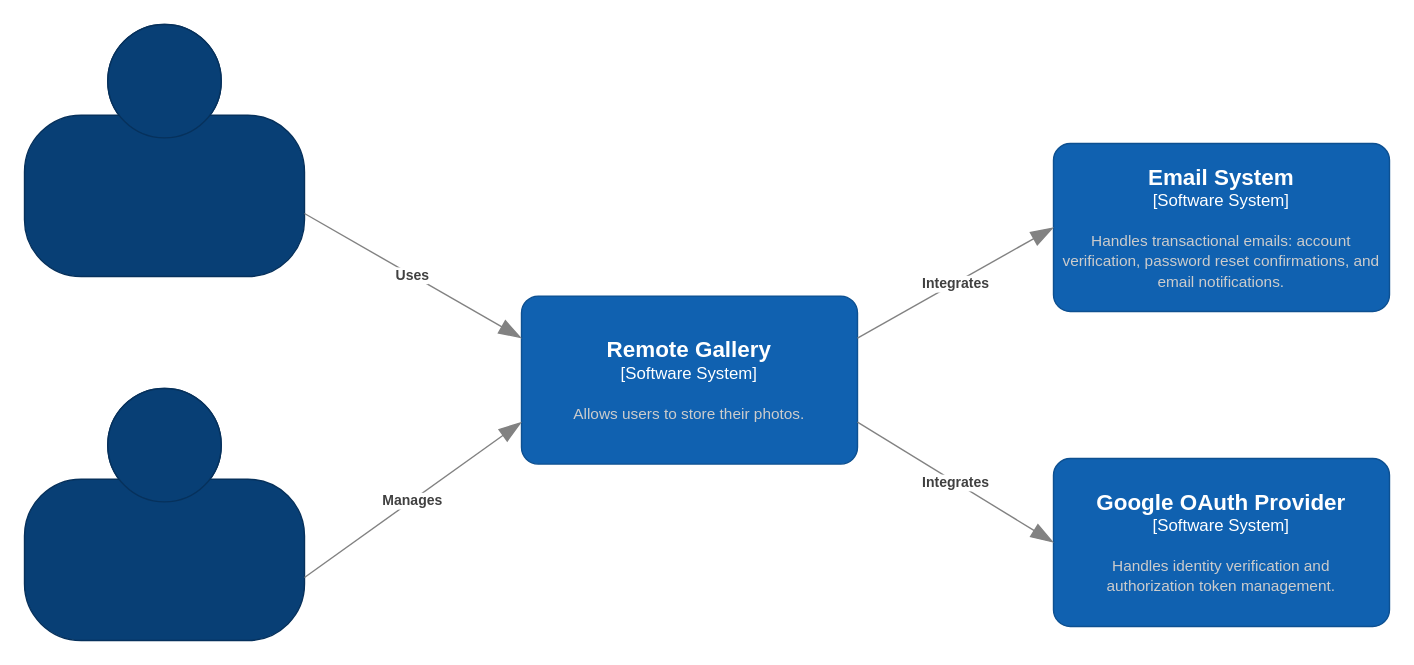
Image size: 1414x665. Some labels were removed from this diagram. The centre of each missing label's shape, as x and y in pixels:
Admin [Person] Handle the user's requests: point 163,513
Client [Person] Uses the application.: point 163,149
